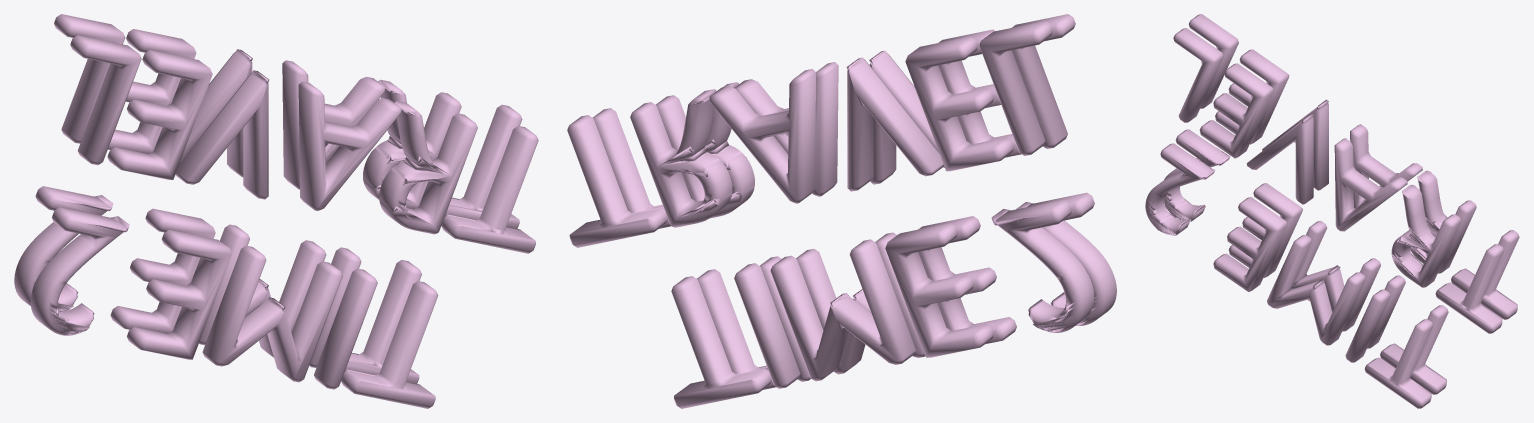
File: TIME2TRAVELonlyLett.fbx
The picture shows the model from 3 angles, left to right: view 1: azimuth 30°, elevation 25°; view 2: azimuth 150°, elevation 25°; view 3: azimuth 330°, elevation 25°; orthographic projection. The views are drawn at different scales.
Parts seen in each view (by area): view 1: Object; view 2: Object; view 3: Object.
Boxes of the visible parts, bbox=[...] form: Object: bbox=[14, 14, 538, 408]; Object: bbox=[567, 14, 1116, 408]; Object: bbox=[1145, 14, 1519, 408].
Size of the model in its own units: 141 by 123 by 17.2.
